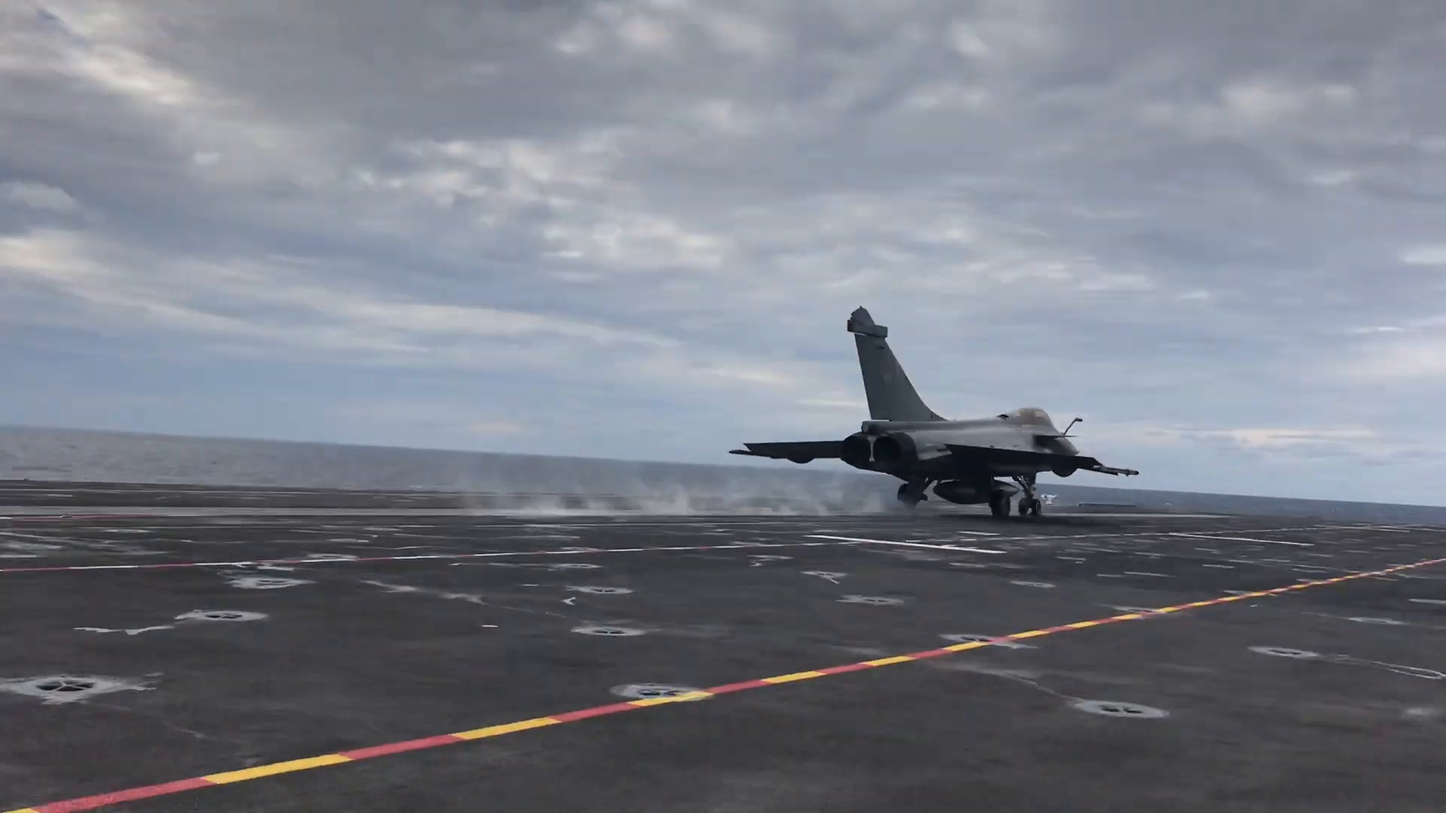Rafale: (723, 302, 1141, 529)
